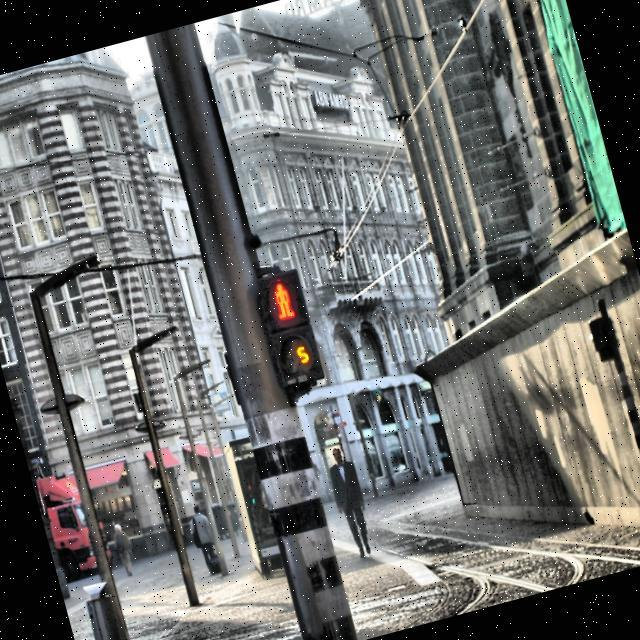red_light: (268, 277, 298, 323)
